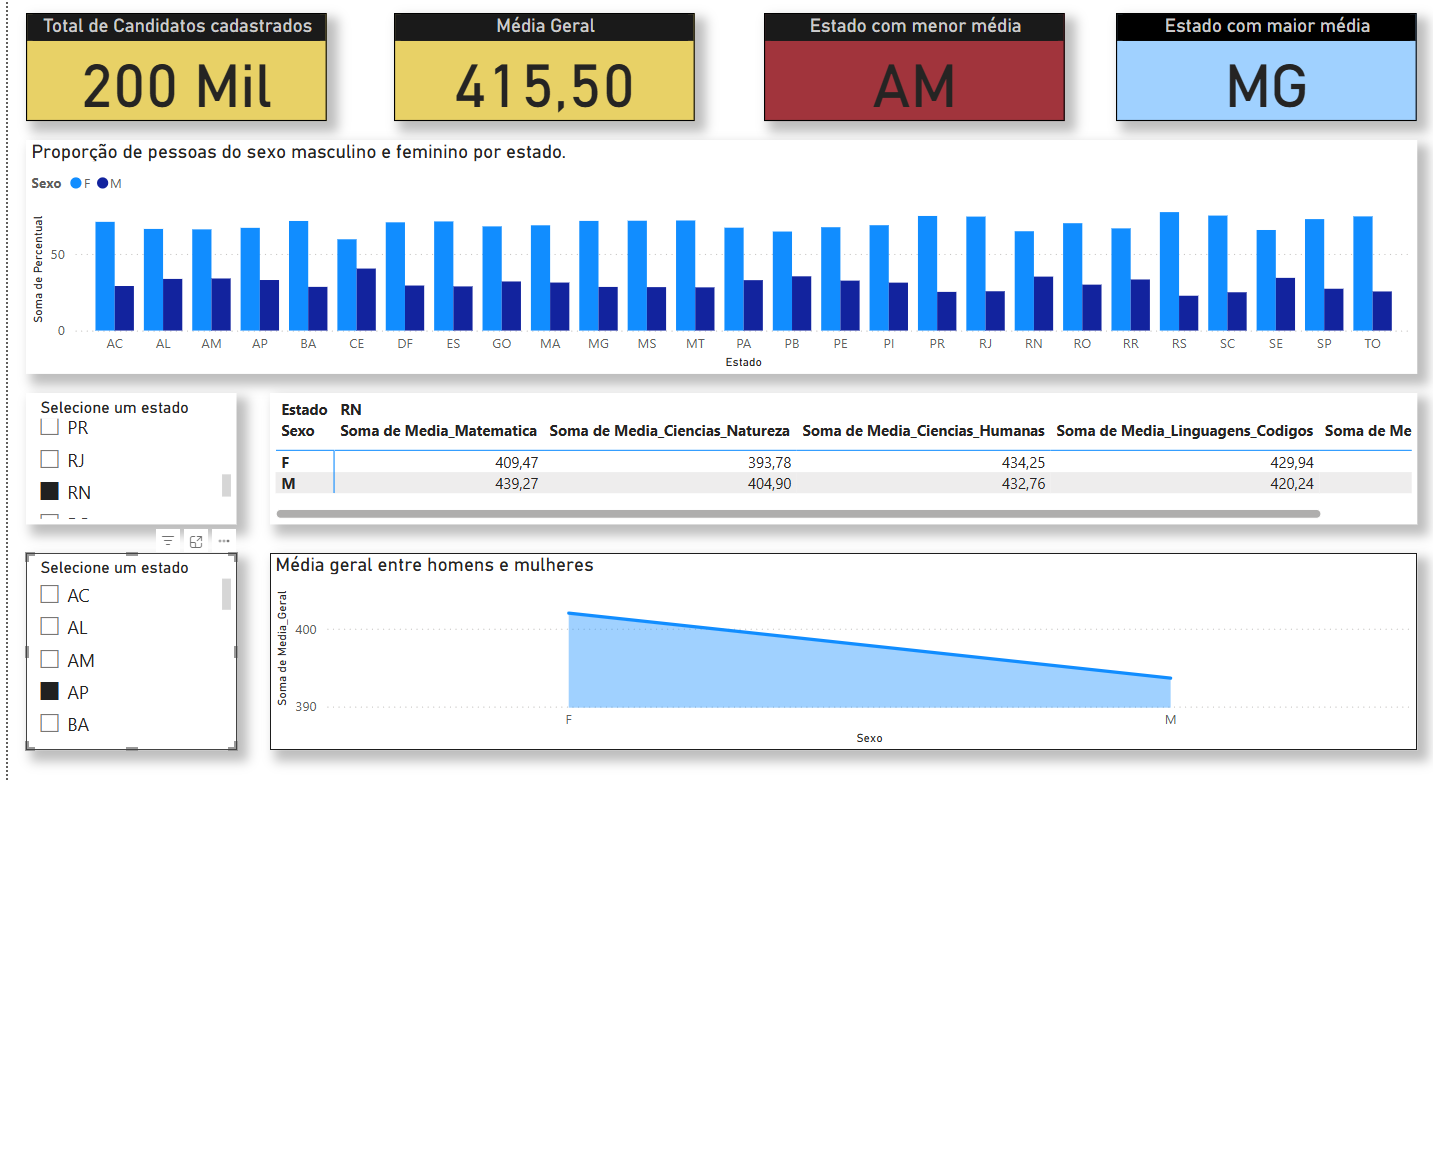

Layout of this report page (visuals, bound fields, positions):
{"tool":"powerbi","page":{"name":"Página 1","canvas":[1280,720],"ordinal":0},"visuals":[{"type":"card","title":"Total de Candidatos cadastrados ","fields":{"Values":["enem_dw fato_notas.Total Candidatos"]},"box":[16.2,18.9,270.2,97],"z":0},{"type":"card","title":"Estado com menor média","fields":{"Values":["enem_dw fato_notas.Estado Média Mínima"]},"box":[678.7,18.9,270.2,97],"z":1000},{"type":"card","title":"Média Geral","fields":{"Values":["enem_dw fato_notas.Média Geral Estado"]},"box":[346.5,18.9,270.2,97],"z":2000},{"type":"card","title":"Estado com maior média","fields":{"Values":["enem_dw fato_notas.Estado Média Máxima"]},"box":[994.7,18.9,270.2,97],"z":3000},{"type":"clusteredColumnChart","title":"Proporção de pessoas do sexo masculino e feminino por estado.","fields":{"Category":["Consulta1.Estado"],"Series":["Consulta1.Sexo"],"Y":["Sum(Consulta1.Percentual)"]},"box":[16.2,132.9,1248.8,210.1],"z":4000},{"type":"slicer","fields":{"Values":["Consulta2.Estado"]},"box":[16.2,360,189.4,117.6],"z":5000},{"type":"pivotTable","fields":{"Rows":["Consulta2.Sexo"],"Values":["Sum(Consulta2.Media_Matematica)","Sum(Consulta2.Media_Ciencias_Natureza)","Sum(Consulta2.Media_Ciencias_Humanas)","Sum(Consulta2.Media_Linguagens_Codigos)","Sum(Consulta2.Media_Redacao)"],"Columns":["Consulta2.Estado"]},"box":[235.2,360,1029.7,117.6],"z":6000},{"type":"slicer","fields":{"Values":["Consulta3.Estado"]},"box":[16.2,503.6,189.4,176.9],"z":7000},{"type":"areaChart","title":"Média geral entre homens e mulheres","fields":{"Category":["Consulta3.Sexo"],"Y":["Sum(Consulta3.Media_Geral)"]},"box":[235.2,503.6,1029.7,176.9],"z":8000}]}

Visuals, with their boxes in screenshot pixels (x1, y1, x2, y2):
"Total de Candidatos cadastrados " card: l=33, t=13, r=331, b=120
"Estado com menor média" card: l=764, t=13, r=1063, b=120
"Média Geral" card: l=397, t=13, r=696, b=120
"Estado com maior média" card: l=1113, t=13, r=1411, b=120
"Proporção de pessoas do sexo masculino e feminino por estado." clusteredColumnChart: l=33, t=139, r=1412, b=371
slicer - Consulta2.Estado: l=33, t=390, r=242, b=520
pivotTable - Consulta2.Sexo x Sum(Consulta2.Media_Matematica): l=275, t=390, r=1411, b=520
slicer - Consulta3.Estado: l=33, t=549, r=242, b=744
"Média geral entre homens e mulheres" areaChart: l=275, t=549, r=1411, b=744
